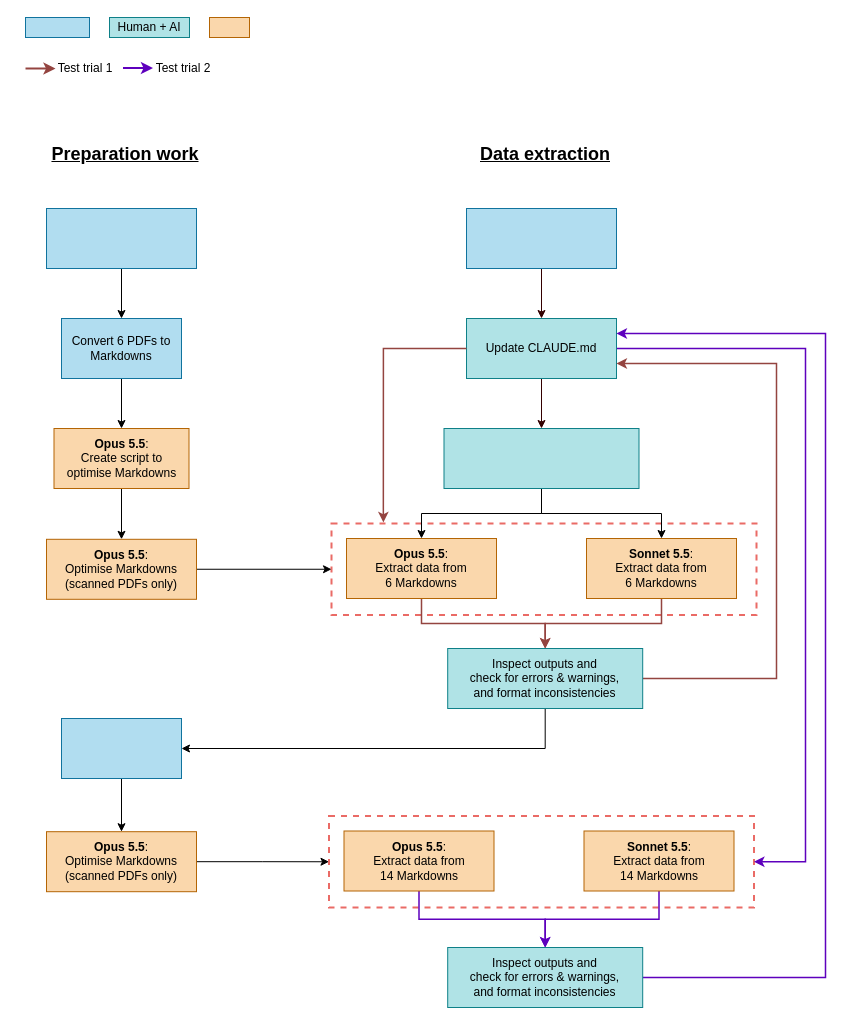
Some shapes in this 851 by 1025 pixel diagram are drawn without their labels. Here are the shapes that lost their labels. From the top down, the centre of each, then its label:
At [57,27]: "Human".
At [229,27]: "AI".
At [121,238]: "Create CSV with extracted data from 1 paper".
At [541,238]: "Create CLAUDE.md with extraction guidelines".
At [541,458]: "Create scripts to check for errors in extraction results".
At [121,748]: "Convert 14 PDFs to Markdowns".
